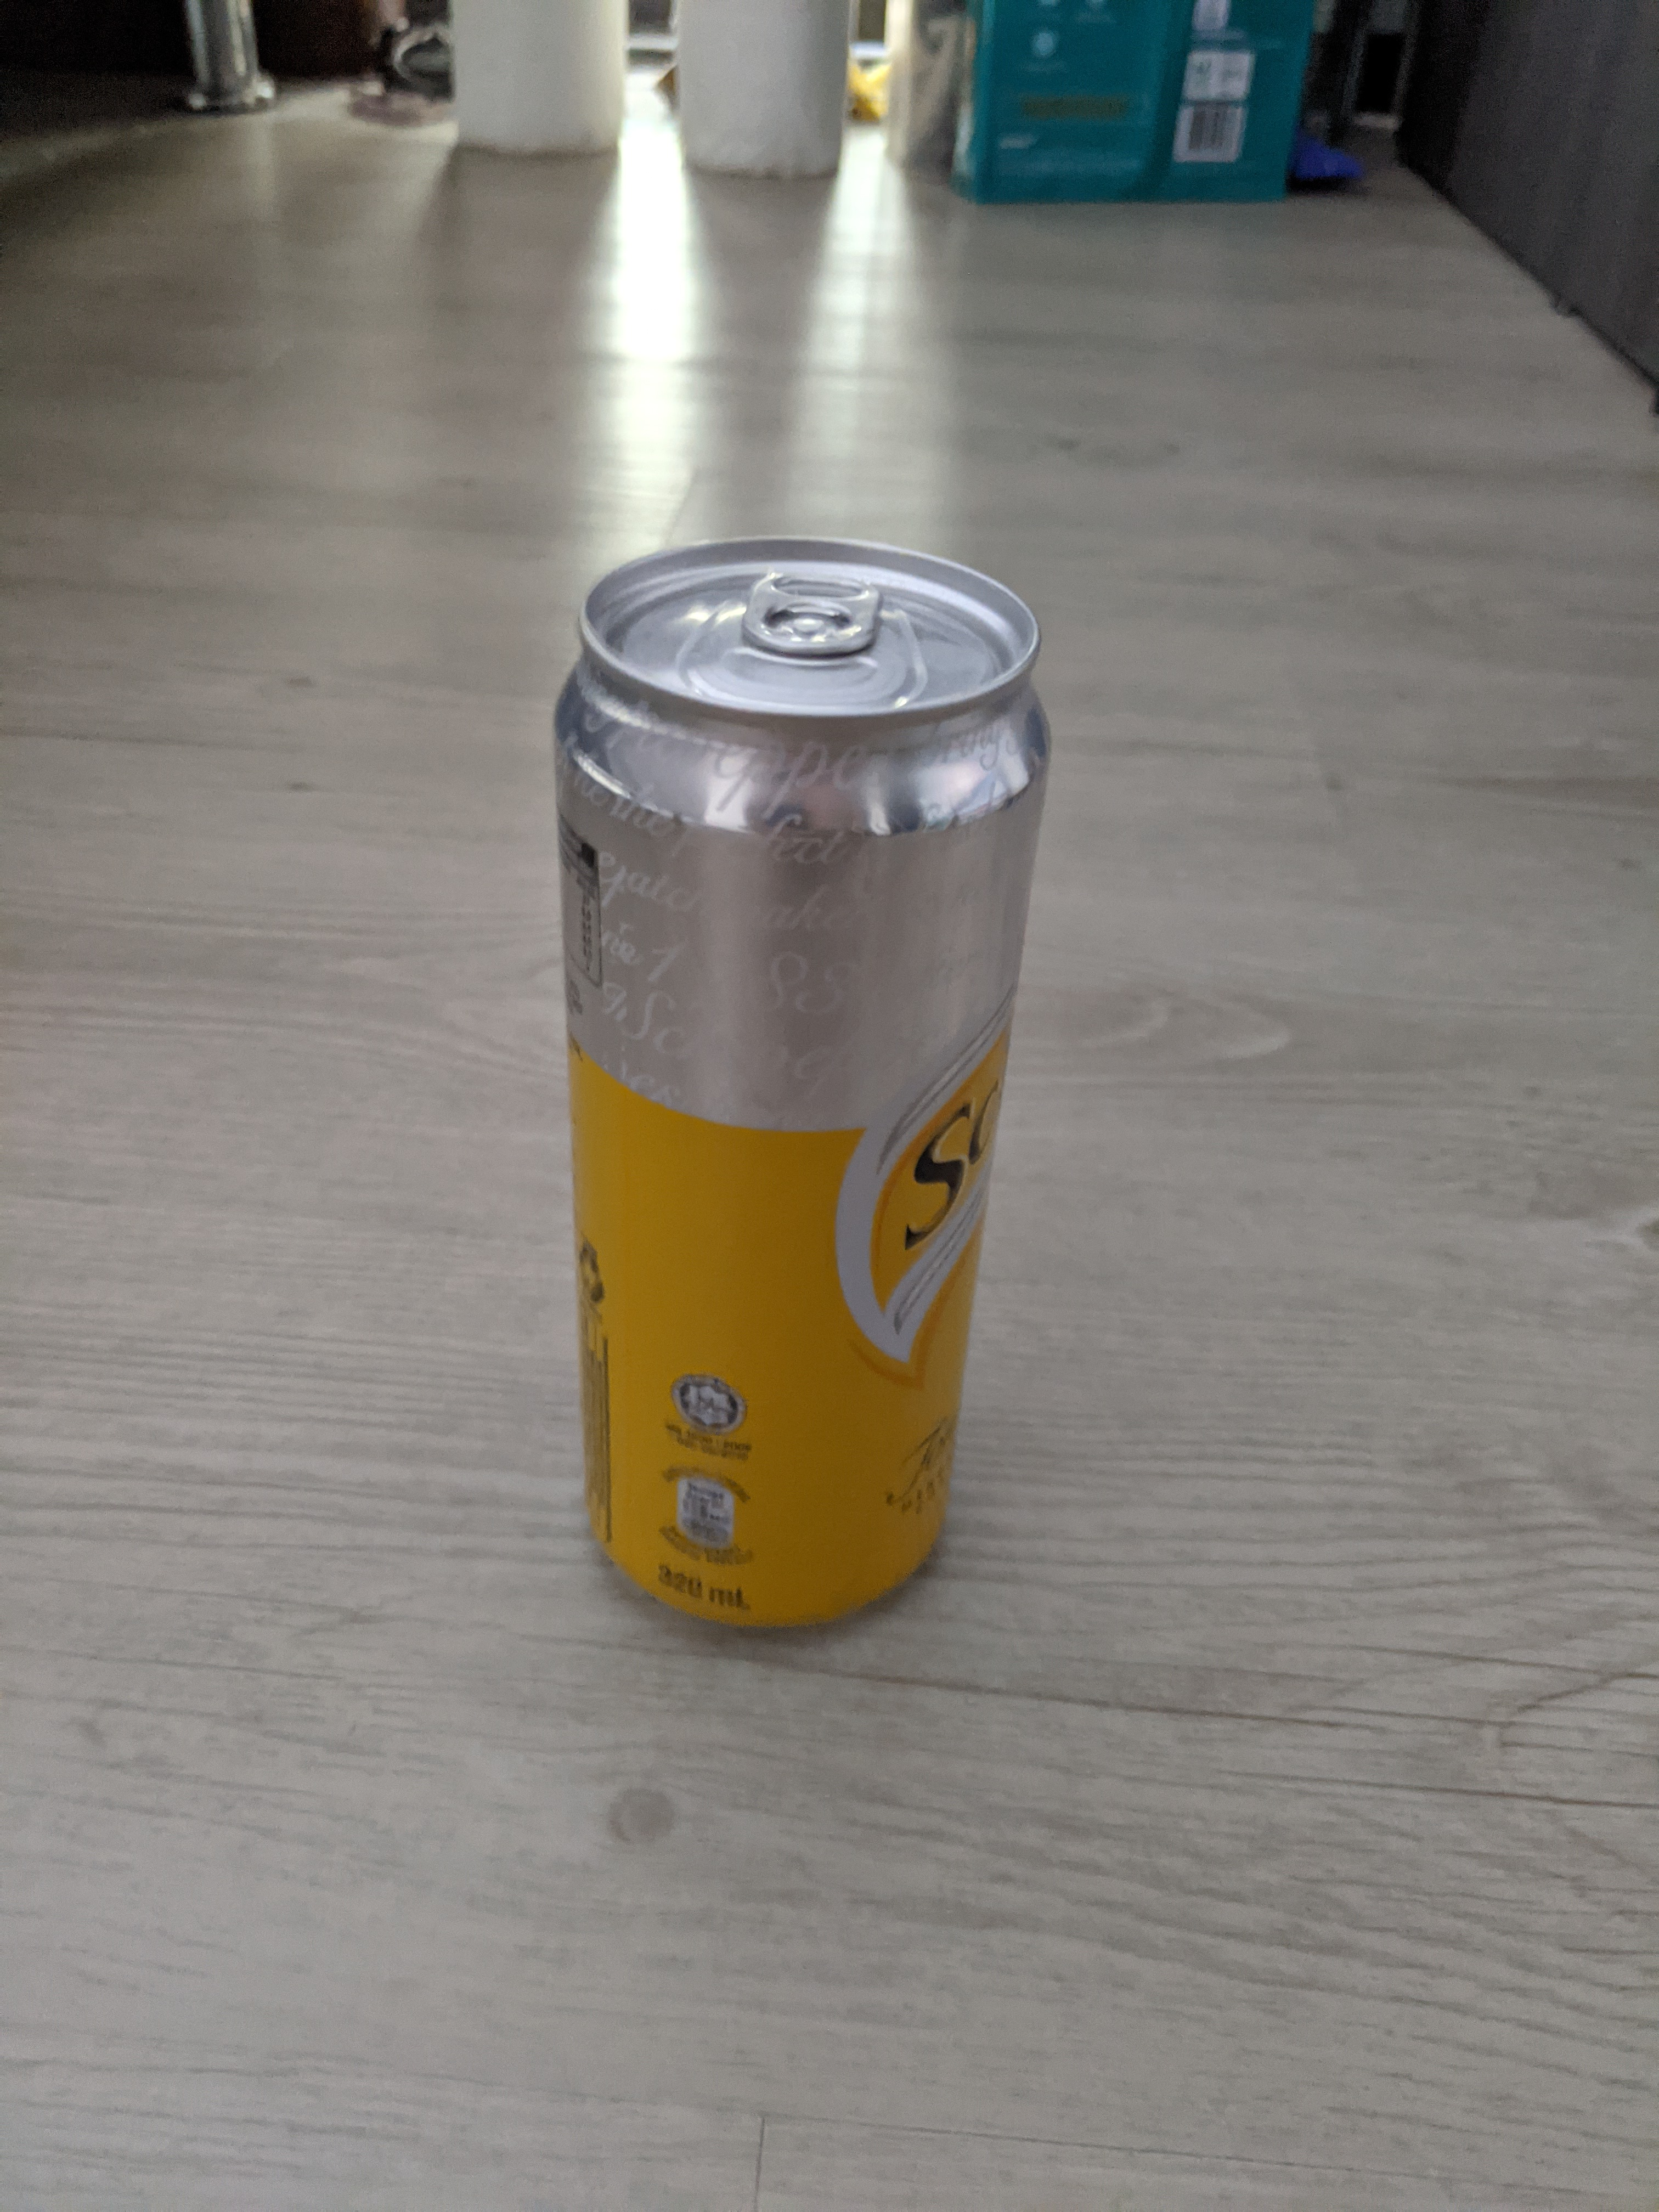schweppes drink can tonic water: (532, 523, 1061, 1649)
